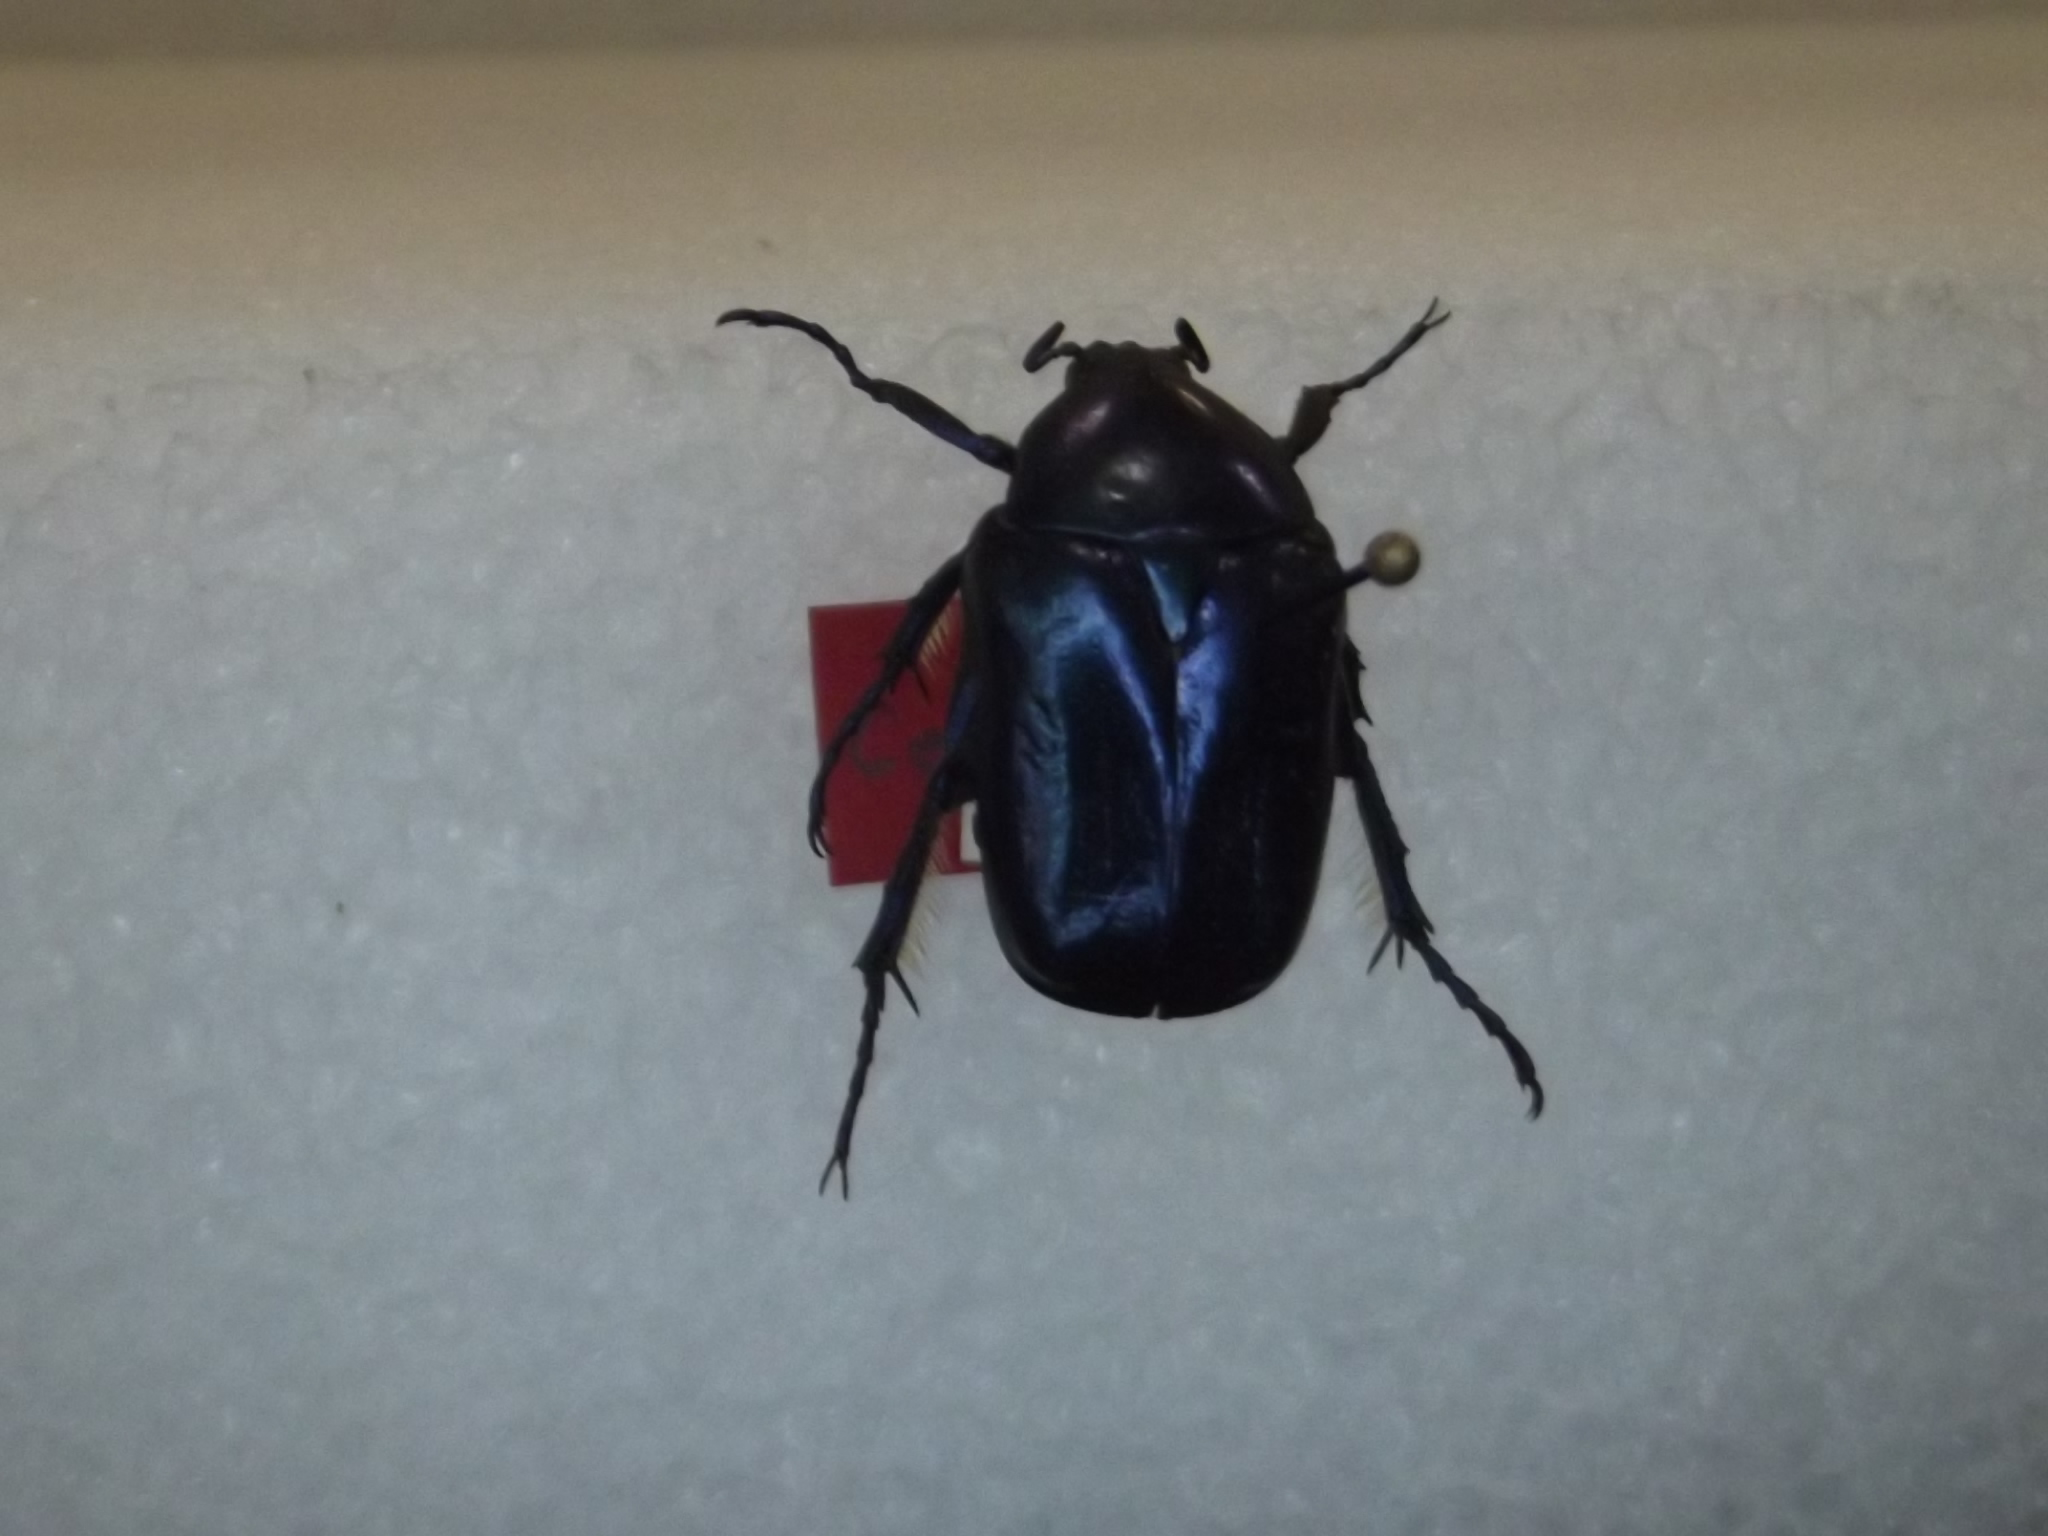Protaetia_besucheti: (681, 248, 1617, 1238)
